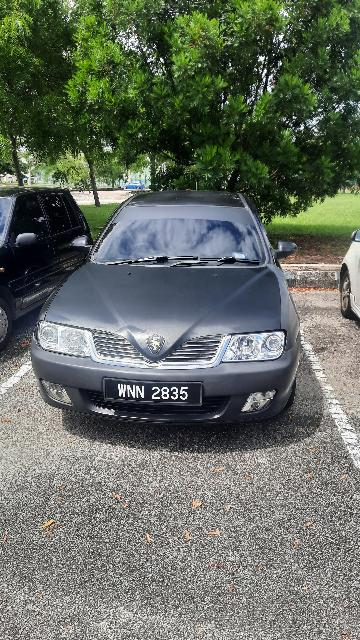License_Plate: (101, 377, 206, 410)
car: (30, 183, 306, 432)
